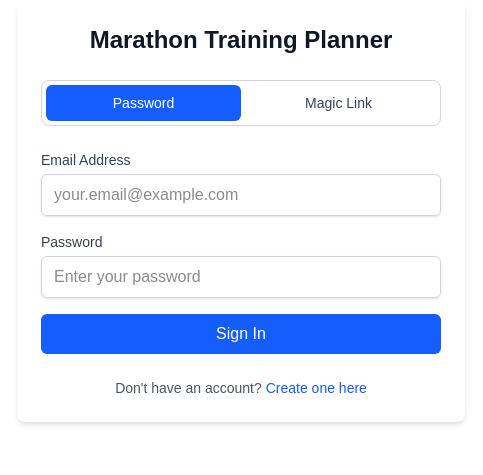
LoginForm › Magic Link Mode › shows error message when signIn returns an error
The width and height of the screenshot is (483, 475).
Click the button "Magic Link". click: x=338, y=103
box: [241,85,436,121]
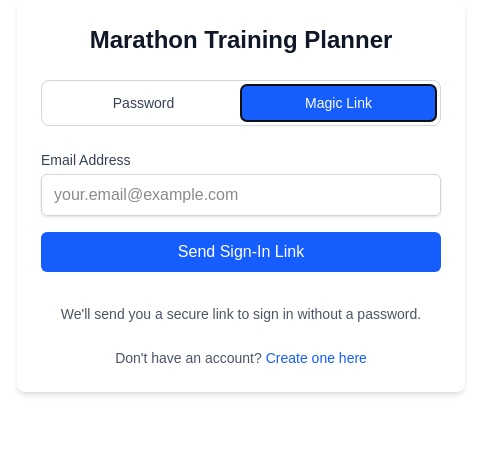
Type "test@example.com" into the field labelled "Email Address". click: x=241, y=195
box: [41,174,441,216]
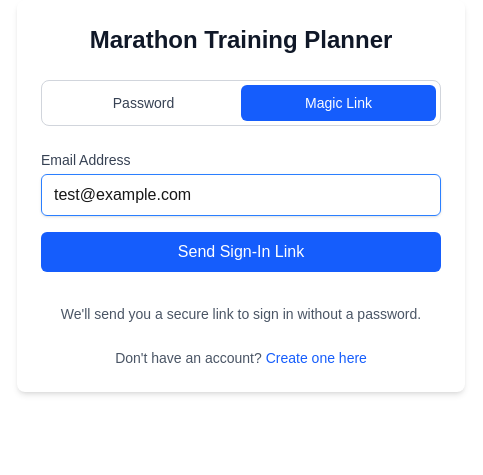
Click the button "Send Sign-In Link". click: x=241, y=252
box: [41,232,441,272]
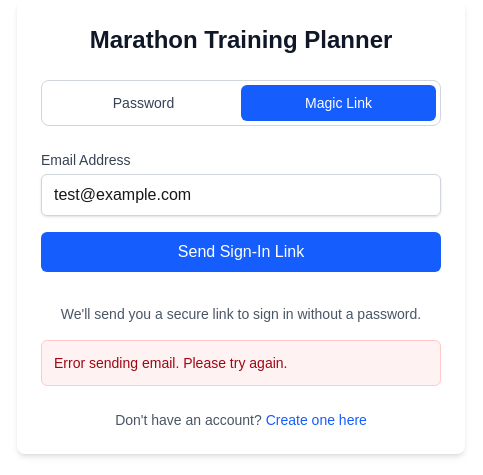
Result: the text "Error sending email. Please try again." is shown at [54,355,288,371]
